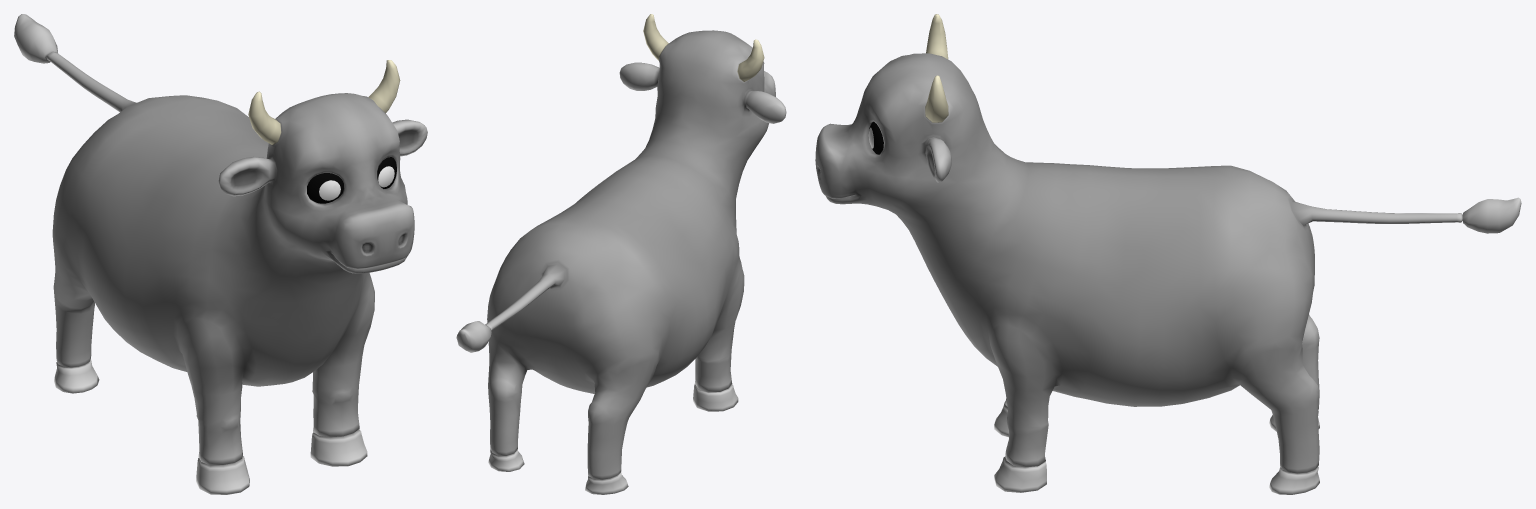
File: uploads_files_6112275_C_BABY_COW.fbx
3 renders of one model, left to right at view 1: azimuth 30°, elevation 25°; view 2: azimuth 150°, elevation 25°; view 3: azimuth 270°, elevation 25°, orthographic. The views are drawn at different scales.
Parts seen in each view (by area): view 1: GEO_BODY_COW, GEO_EYES_R_COW, GEO_EYES_L_COW; view 2: GEO_BODY_COW; view 3: GEO_BODY_COW.
Boxes of the visible parts, x1=… form: GEO_BODY_COW: x1=14, y1=14, x2=427, y2=494; GEO_EYES_R_COW: x1=307, y1=173, x2=343, y2=203; GEO_EYES_L_COW: x1=377, y1=157, x2=396, y2=188; GEO_BODY_COW: x1=456, y1=14, x2=786, y2=494; GEO_BODY_COW: x1=815, y1=14, x2=1521, y2=494.
Bounding box in the file's own units: 134 × 248 × 387.
